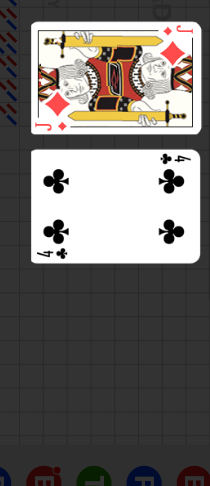4C: (35, 246, 70, 260), (158, 153, 192, 167)
